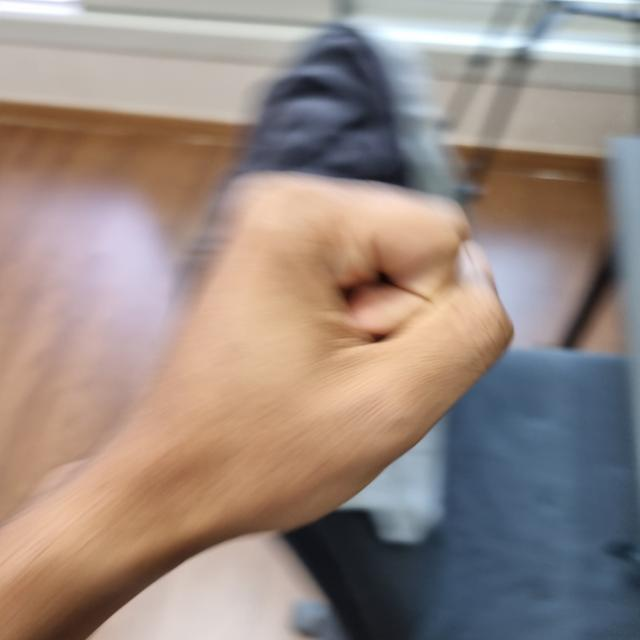Rock: (130, 176, 508, 534)
